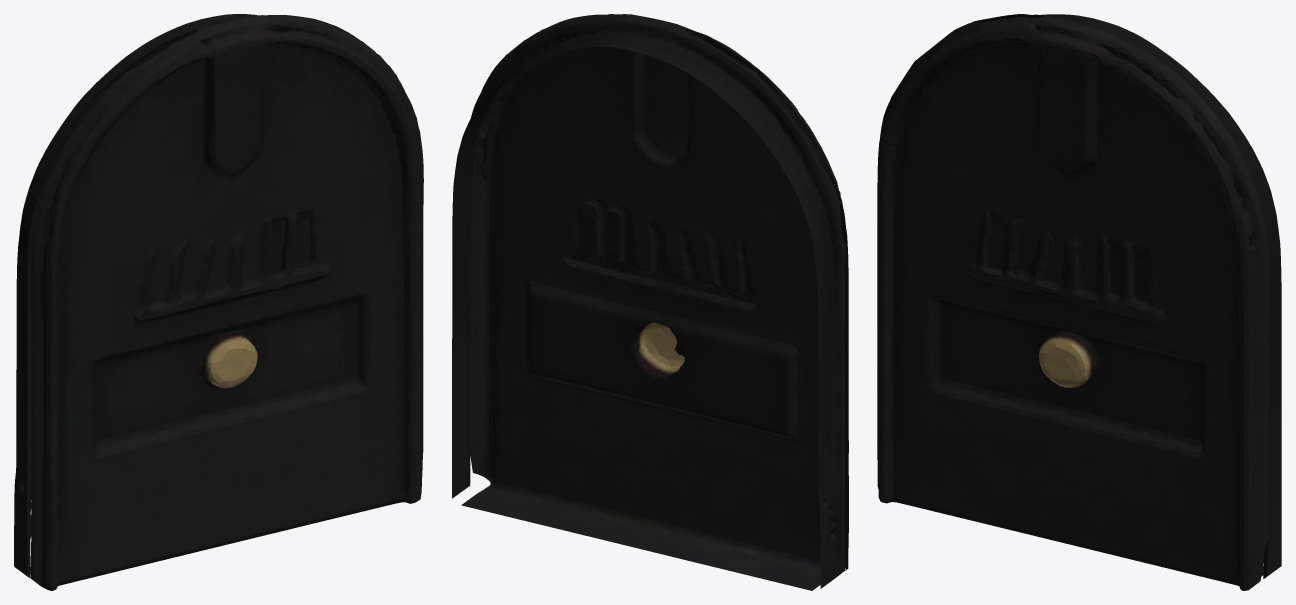
The model's file is door.glb.
The picture shows the model from 3 angles, left to right: view 1: azimuth 30°, elevation 25°; view 2: azimuth 150°, elevation 25°; view 3: azimuth 330°, elevation 25°; orthographic projection.
Parts seen in each view (by area): view 1: source_surface_0; view 2: source_surface_0; view 3: source_surface_0.
Boxes of the visible parts, x1,y1,x2,y2 form: source_surface_0: (14,14,423,590); source_surface_0: (452,14,848,590); source_surface_0: (877,14,1281,590).
Bounding box in the file's own units: 0.4025 × 0.5107 × 0.0607.
1 material, 1 textured.
